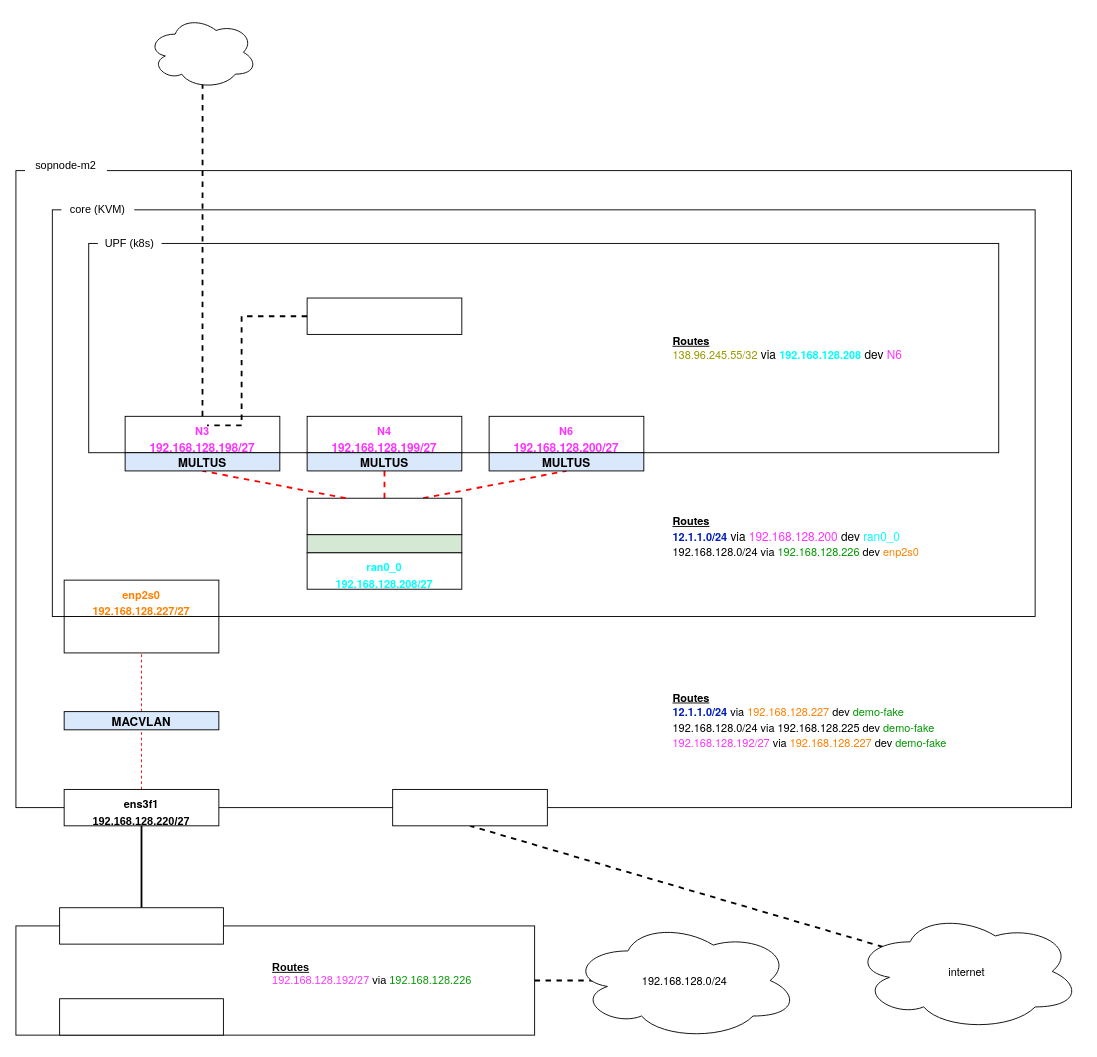
Image size: 1097x1057. Some labels were removed from this diagram. Here are the shapes that lost their labels. From the top down, the centre of each, then its label:
(x=202, y=52): UE 12.1.1.0/24
(x=384, y=315): tun0 12.1.1.1/24
(x=384, y=516): ran0
(x=384, y=543): VETH
(x=141, y=634): demo-fake @ens3f1 192.168.128.226/27
(x=469, y=807): ens10f0np0 138.96.245.55/24
(x=141, y=925): TF 0/28 192.168.128.225/27
(x=141, y=1016): HG 0/51:1 192.168.128.129/27
